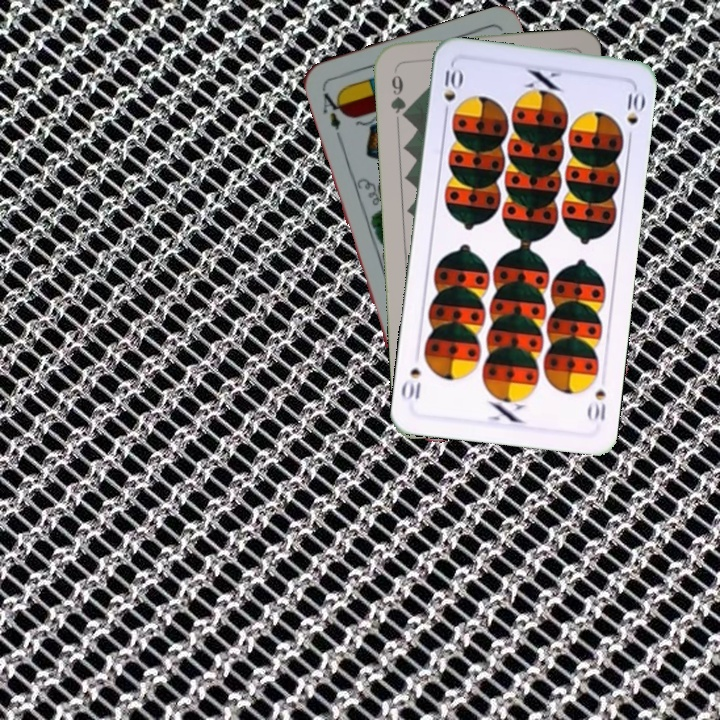EA: (318, 89, 348, 143)
G9: (386, 64, 410, 123)
S10: (440, 64, 463, 120), (584, 385, 609, 424)
